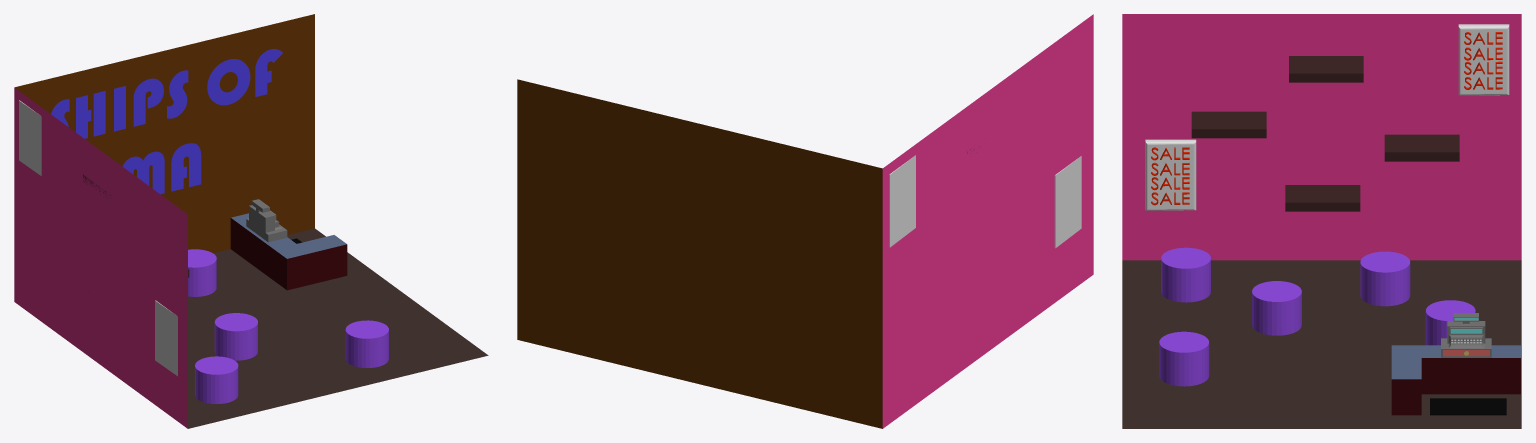
File: ship shop interior fbx.fbx
3 renders of one model, left to right at view 1: azimuth 30°, elevation 25°; view 2: azimuth 150°, elevation 25°; view 3: azimuth 270°, elevation 25°, orthographic. The views are drawn at different scales.
Parts seen in each view (by area): view 1: Plane, Text, Cube.006, Circle.005, Circle.003, Circle.002, Circle.004, silly cash register stl; view 2: Plane; view 3: Plane, Cube.006, Circle.001, Circle.005, Circle.003, Circle.002, Cube.003, Cube.001, Cube.002, Cube.005, silly cash register stl, Cube.004 (+1 smaller).
Boxes of the visible parts, x1,y1,x2,y2 form: Plane: [14, 14, 488, 428]; Text: [51, 49, 282, 194]; Cube.006: [230, 213, 347, 290]; Circle.005: [345, 320, 388, 367]; Circle.003: [195, 356, 238, 403]; Circle.002: [214, 313, 257, 360]; Circle.004: [188, 249, 216, 296]; silly cash register stl: [246, 199, 287, 242]; Plane: [517, 14, 1093, 428]; Plane: [1122, 14, 1521, 428]; Cube.006: [1391, 345, 1520, 415]; Circle.001: [1360, 251, 1410, 306]; Circle.005: [1159, 331, 1209, 386]; Circle.003: [1161, 247, 1210, 302]; Circle.002: [1252, 281, 1301, 335]; Cube.003: [1384, 134, 1459, 161]; Cube.001: [1191, 111, 1266, 138]; Cube.002: [1285, 185, 1360, 211]; Cube.005: [1289, 56, 1363, 82]; silly cash register stl: [1441, 313, 1491, 357]; Cube.004: [1430, 398, 1506, 415].
Size of the model in its own units: 802 by 545 by 800.
